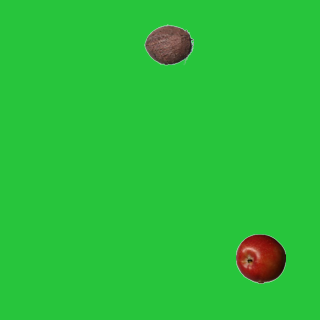Apple Braeburn: (235, 233, 285, 283)
Cocos: (143, 19, 193, 69)
